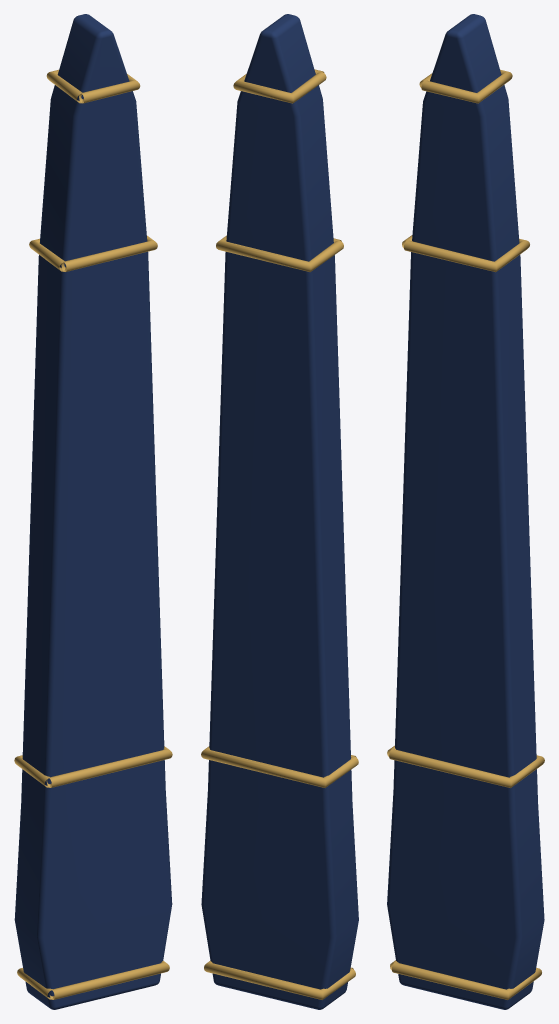
Rendered from master_scabbard.glb.
3 renders of one model, left to right at view 1: azimuth 30°, elevation 25°; view 2: azimuth 150°, elevation 25°; view 3: azimuth 330°, elevation 25°, orthographic.
Visible parts, largest first — view 1: Blue stitched scabbard, Scabbard brass band.001, Scabbard brass band, Scabbard brass band.002, Scabbard brass band.003; view 2: Blue stitched scabbard, Scabbard brass band.001, Scabbard brass band, Scabbard brass band.002, Scabbard brass band.003; view 3: Blue stitched scabbard, Scabbard brass band.001, Scabbard brass band, Scabbard brass band.002, Scabbard brass band.003.
Part boxes in pixels (left/top/right/bottom): Blue stitched scabbard: left=14, top=14, right=172, bottom=1009; Scabbard brass band.001: left=14, top=746, right=172, bottom=787; Scabbard brass band: left=17, top=961, right=169, bottom=999; Scabbard brass band.002: left=29, top=235, right=157, bottom=271; Scabbard brass band.003: left=46, top=69, right=140, bottom=103; Blue stitched scabbard: left=201, top=14, right=358, bottom=1009; Scabbard brass band.001: left=201, top=746, right=358, bottom=787; Scabbard brass band: left=204, top=960, right=355, bottom=999; Scabbard brass band.002: left=216, top=235, right=343, bottom=271; Scabbard brass band.003: left=233, top=69, right=326, bottom=103; Blue stitched scabbard: left=387, top=14, right=544, bottom=1009; Scabbard brass band.001: left=387, top=745, right=544, bottom=787; Scabbard brass band: left=390, top=960, right=541, bottom=999; Scabbard brass band.002: left=402, top=235, right=529, bottom=272; Scabbard brass band.003: left=419, top=69, right=512, bottom=103.
Size of the model in its own units: 0.146 by 1 by 0.0645.
